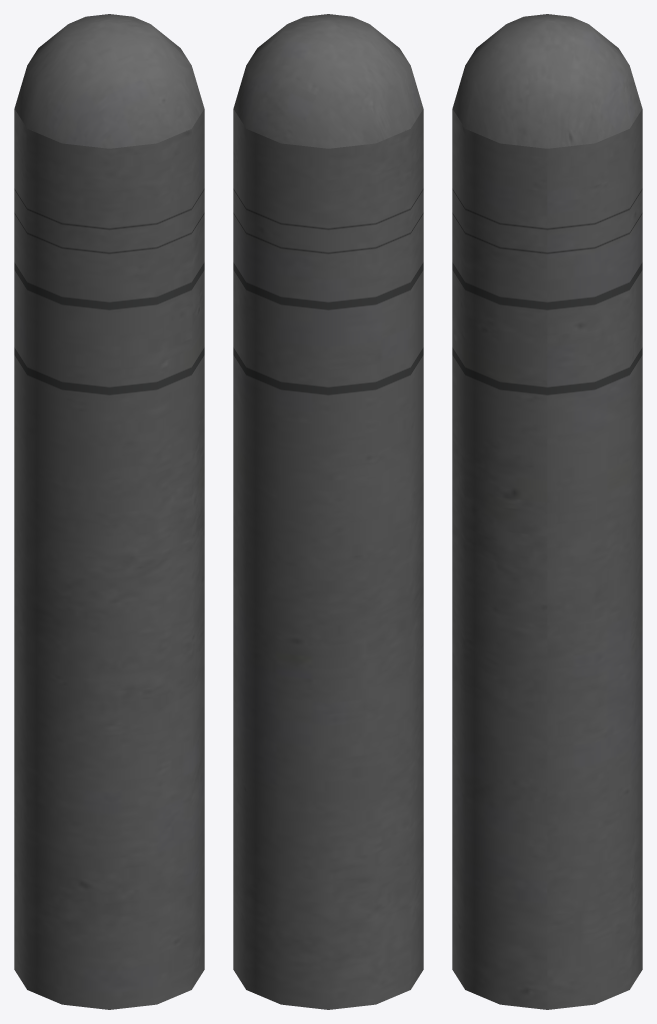
File: metal stamp.FBX
The picture shows the model from 3 angles, left to right: view 1: azimuth 30°, elevation 25°; view 2: azimuth 150°, elevation 25°; view 3: azimuth 270°, elevation 25°; orthographic projection.
Parts seen in each view (by area): view 1: metal stamp; view 2: metal stamp; view 3: metal stamp.
Part boxes in pixels (box(x1,y1,x2,y2)): metal stamp: box(14, 14, 204, 1009); metal stamp: box(233, 14, 423, 1009); metal stamp: box(452, 14, 642, 1009).
Size of the model in its own units: 3 by 16.5 by 3.
